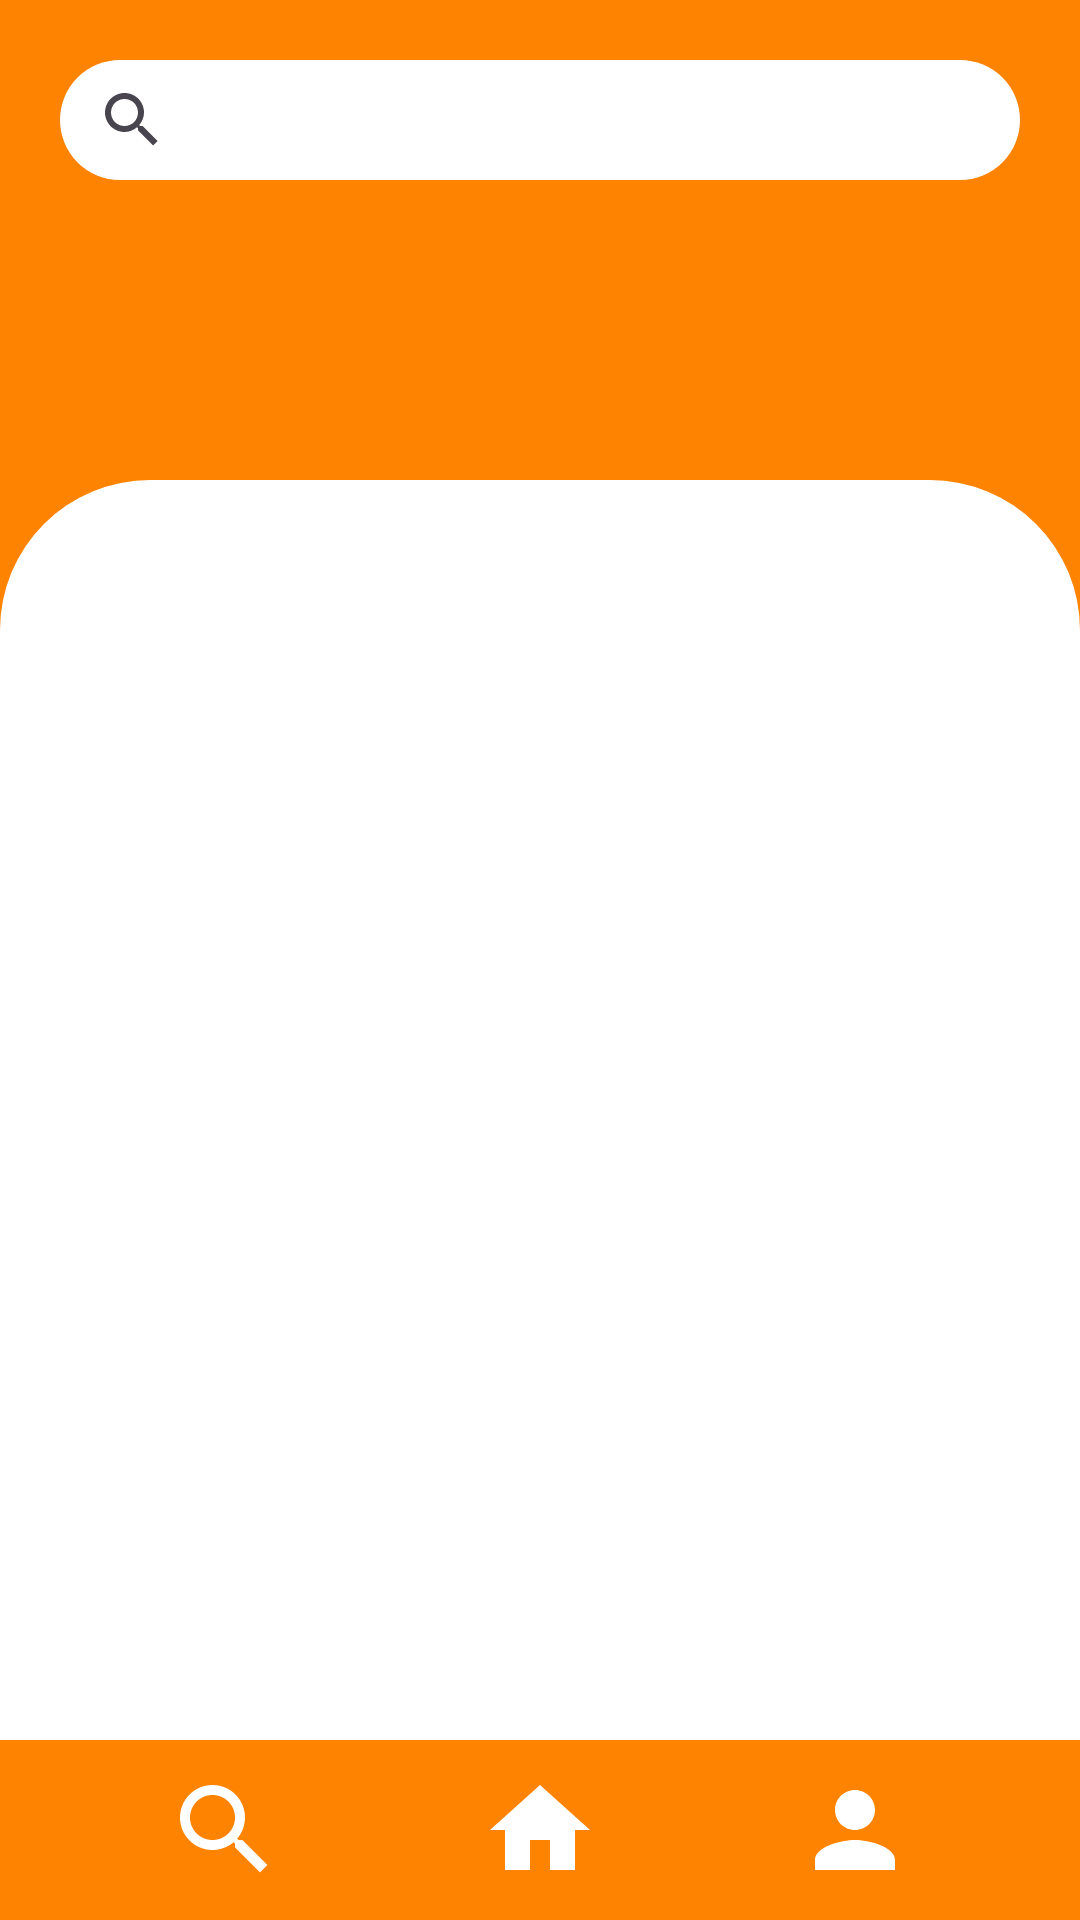

Screen size 1080×1920. Icon name, then its box in pixels as rect(x1, y1, x2, y2):
home: rect(490, 1785, 590, 1870)
profile: rect(815, 1790, 895, 1870)
